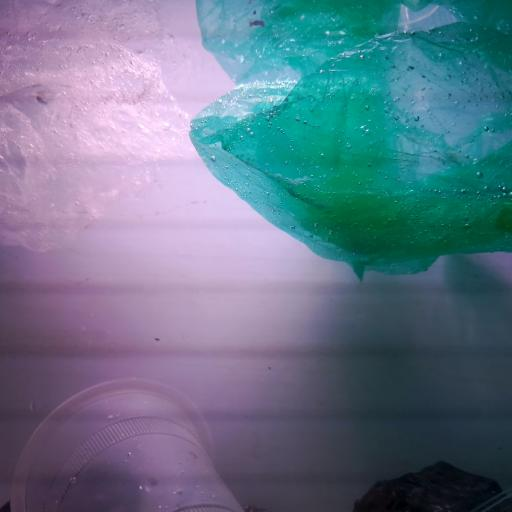plastic_bag: (188, 10, 512, 282), (1, 36, 192, 258)
plastic_cup: (9, 374, 247, 512)
